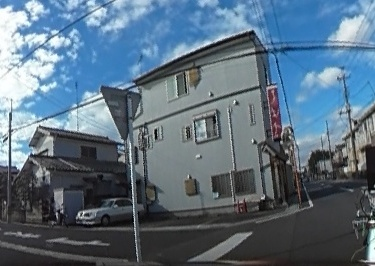person: (372, 111, 375, 191)
